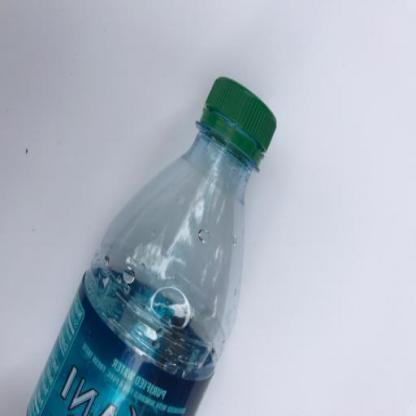Plastic: (24, 73, 279, 415)
